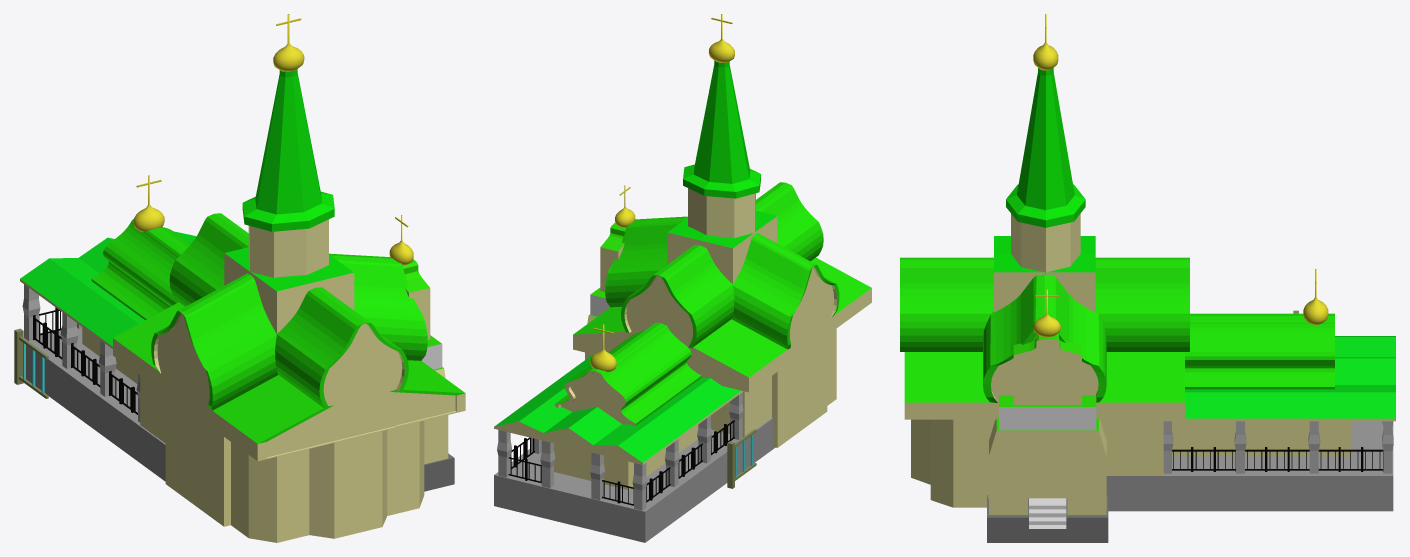
File: hcurch1.fbx
3 renders of one model, left to right at view 1: azimuth 30°, elevation 25°; view 2: azimuth 150°, elevation 25°; view 3: azimuth 270°, elevation 25°, orthographic. The views are drawn at different scales.
Parts seen in each view (by area): view 1: roof.001, Cube, Cylinder, Cube.001, roof, roof1, roof.002, pristroika, fence, Cube.012, krest, krest.001 (+3 smaller); view 2: roof.001, Cube.001, roof, Cube, Cylinder, roof1, roof.002, pristroika, fence, Cube.006, Cube.011, Cube.005 (+6 smaller); view 3: roof.001, Cube, pristroika, Cube.001, roof1, roof, Cylinder, Cube.012, roof.002, krest, krest.001.
Part boxes in pixels (x1,y1,x2,y2): roof.001: [113, 213, 465, 461]; Cube: [82, 327, 424, 542]; Cylinder: [242, 69, 334, 277]; Cube.001: [23, 328, 165, 481]; roof: [20, 231, 196, 348]; roof1: [91, 219, 190, 320]; roof.002: [224, 247, 354, 333]; pristroika: [402, 259, 448, 464]; fence: [14, 328, 48, 398]; Cube.012: [424, 453, 454, 491]; krest: [273, 14, 304, 71]; krest.001: [133, 175, 164, 231]; roof.001: [573, 182, 871, 392]; Cube.001: [494, 418, 775, 542]; roof: [494, 354, 743, 464]; Cube: [554, 329, 836, 489]; Cylinder: [683, 60, 760, 237]; roof1: [554, 322, 701, 425]; roof.002: [667, 210, 777, 283]; pristroika: [585, 223, 625, 359]; fence: [727, 429, 756, 488]; Cube.006: [632, 463, 647, 510]; Cube.011: [540, 440, 555, 487]; Cube.005: [497, 430, 511, 477]; roof.001: [900, 257, 1189, 419]; Cube: [911, 419, 1351, 507]; pristroika: [989, 333, 1106, 514]; Cube.001: [1106, 421, 1393, 511]; roof1: [1185, 313, 1334, 389]; roof: [1160, 336, 1395, 421]; Cylinder: [1006, 68, 1085, 274]; Cube.012: [987, 495, 1108, 542]; roof.002: [994, 236, 1095, 312]; krest: [1033, 14, 1058, 70]; krest.001: [1303, 269, 1328, 324].
Size of the model in its own units: 2214 by 3646 by 3525.
